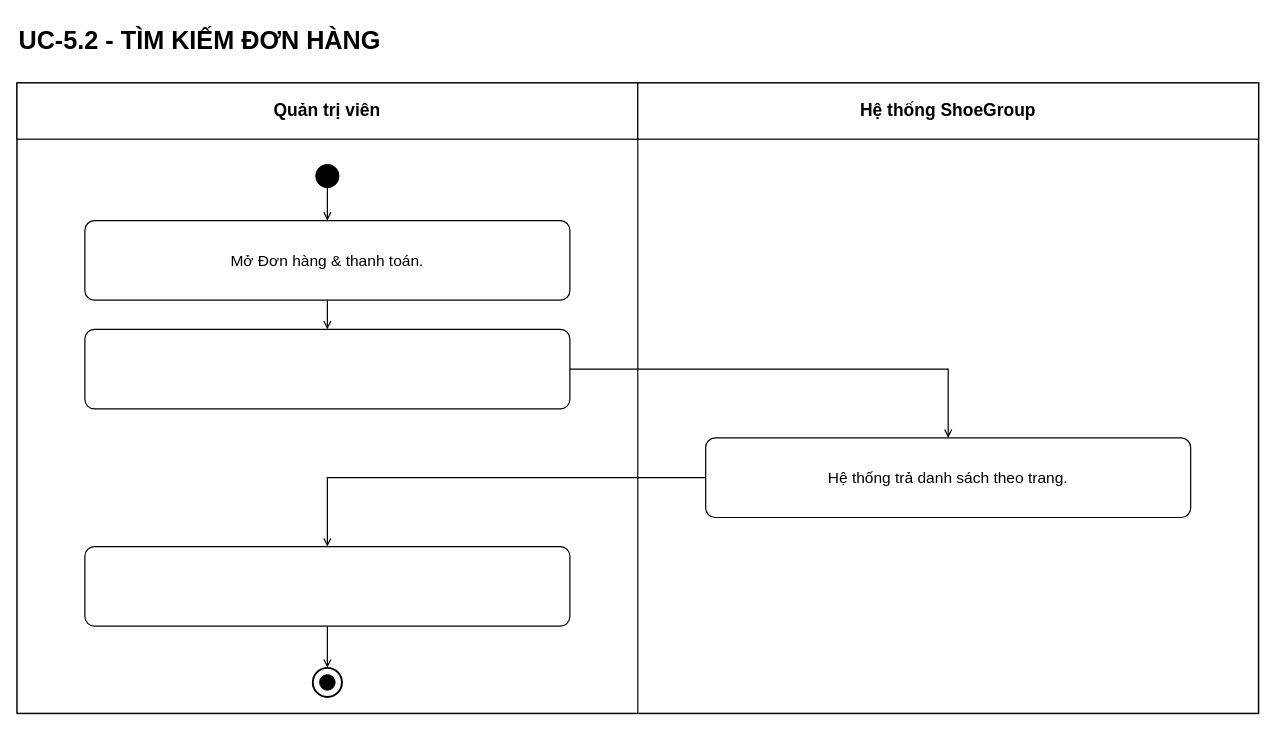
This 1277x731 diagram has some shape labels left out. The shapes that lost their labels are listed below. From the top down, each one's centre as x and y in pixels, then its label:
point (327, 368): Nhập từ khóa hoặc lọc trạng thái.
point (327, 586): Mở chi tiết để xem khách, dòng hàng, thanh toán và lịch sử.
